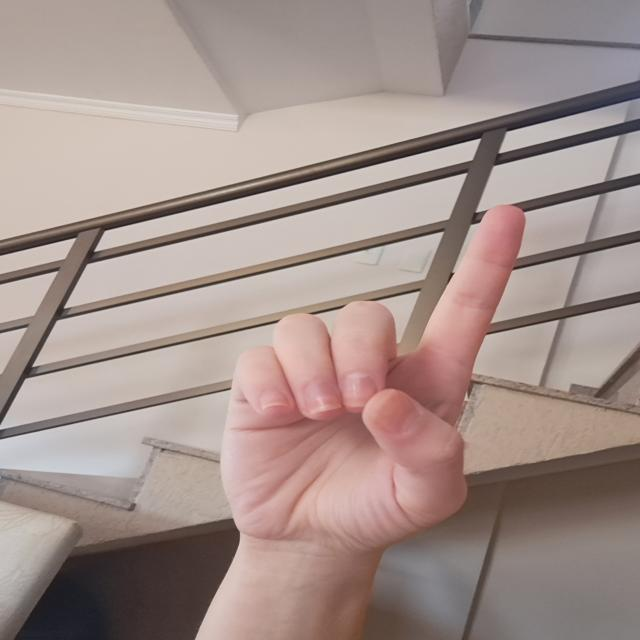D2: (209, 200, 536, 545)
